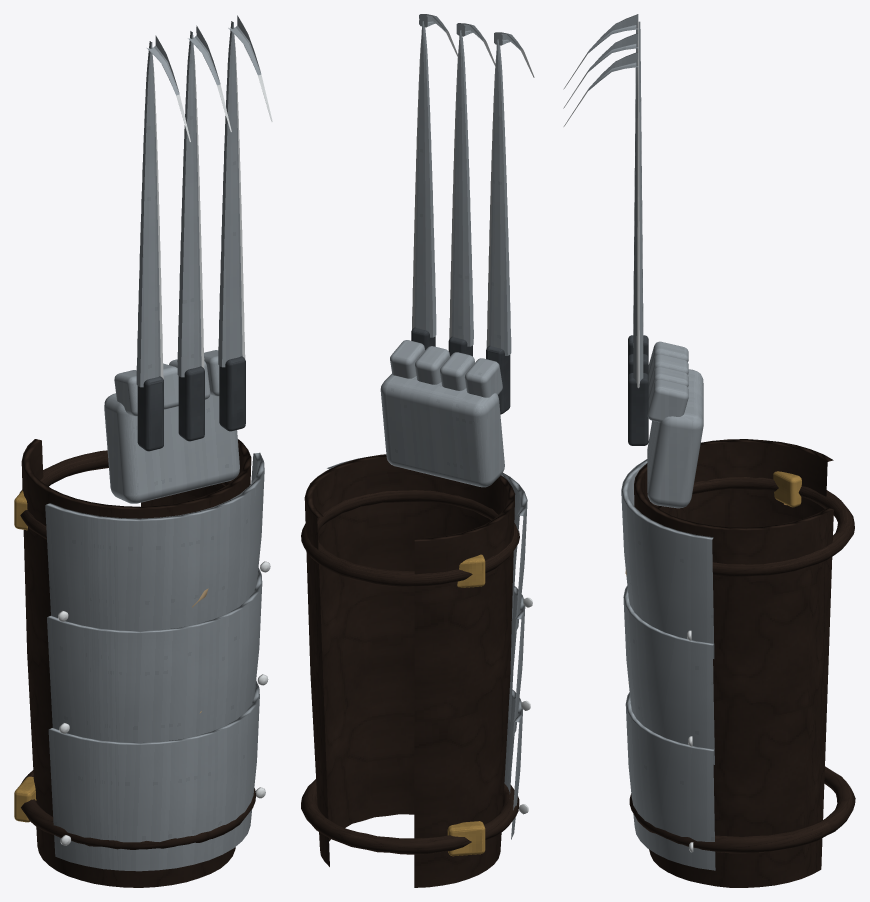
The model's file is hook-claws.lod1.glb.
3 views of the same model, side by side, from view 1: azimuth 30°, elevation 25°; view 2: azimuth 150°, elevation 25°; view 3: azimuth 270°, elevation 25° (orthographic). The views are drawn at different scales.
Parts seen in each view (by area): view 1: steel / forged blade steel, leather / oiled leather wrap, darksteel / oil-blackened fittings, edge / honed bright bevel, brass / polished brass furniture; view 2: leather / oiled leather wrap, steel / forged blade steel, edge / honed bright bevel, brass / polished brass furniture, darksteel / oil-blackened fittings; view 3: leather / oiled leather wrap, steel / forged blade steel, darksteel / oil-blackened fittings, edge / honed bright bevel, brass / polished brass furniture.
Part boxes in pixels (x1,y1,x2,y2): steel / forged blade steel: [45, 15, 264, 871]; leather / oiled leather wrap: [20, 439, 256, 887]; darksteel / oil-blackened fittings: [137, 356, 245, 451]; edge / honed bright bevel: [58, 39, 272, 845]; brass / polished brass furniture: [14, 490, 36, 822]; leather / oiled leather wrap: [301, 454, 519, 887]; steel / forged blade steel: [327, 14, 527, 839]; edge / honed bright bevel: [412, 30, 534, 814]; brass / polished brass furniture: [447, 554, 485, 856]; darksteel / oil-blackened fittings: [411, 327, 510, 414]; leather / oiled leather wrap: [629, 439, 855, 887]; steel / forged blade steel: [587, 14, 715, 870]; darksteel / oil-blackened fittings: [628, 335, 648, 445]; edge / honed bright bevel: [563, 21, 693, 852]; brass / polished brass furniture: [773, 471, 801, 507].
Size of the model in its own units: 0.1579 by 0.6047 by 0.1966.
Materials: 7 (5 with a texture image).
